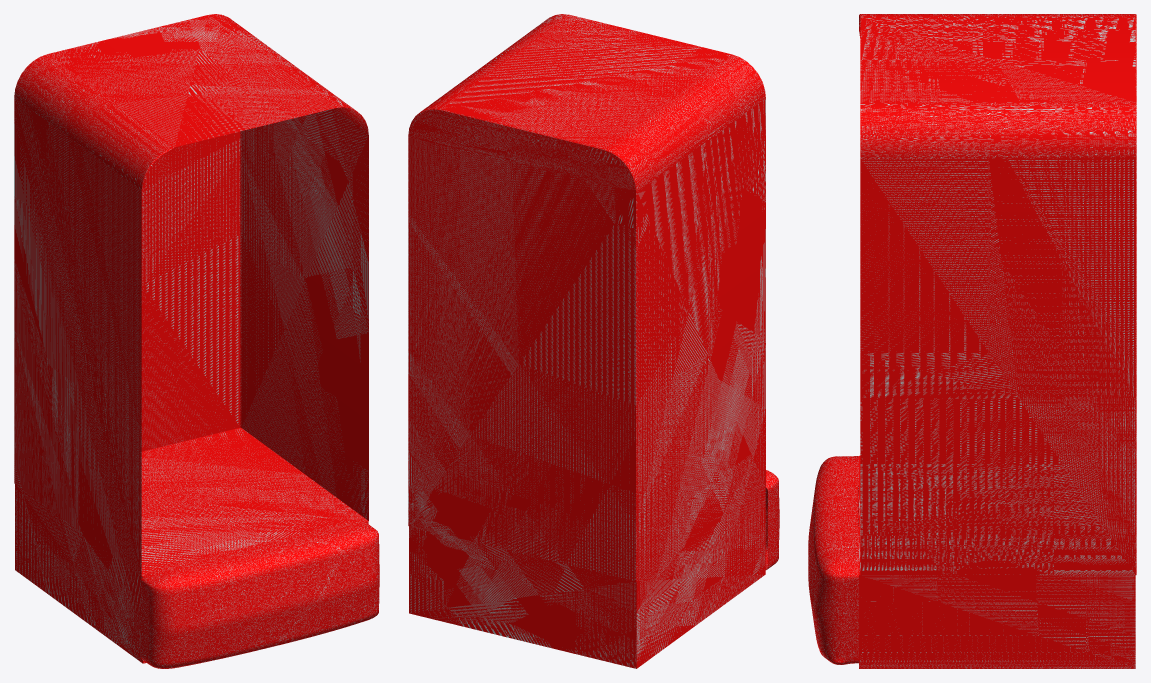
The model's file is frame.dae.
The picture shows the model from 3 angles, left to right: view 1: azimuth 30°, elevation 25°; view 2: azimuth 150°, elevation 25°; view 3: azimuth 270°, elevation 25°; orthographic projection. The views are drawn at different scales.
Visible parts, largest first — view 1: instance_1.175, group_3.038, group_4.079; view 2: instance_1.175, group_4.079, group_3.038; view 3: instance_1.175, group_4.079, group_3.038.
Part boxes in pixels (<box>): instance_1.175: <box>14,14,368,576</box>; group_3.038: <box>140,521,379,668</box>; group_4.079: <box>15,429,368,663</box>; instance_1.175: <box>408,14,765,581</box>; group_4.079: <box>409,488,765,668</box>; group_3.038: <box>765,470,779,569</box>; instance_1.175: <box>859,14,1136,575</box>; group_4.079: <box>859,575,1135,668</box>; group_3.038: <box>808,456,858,664</box>.
Size of the model in its own units: 0.7751 by 0.8922 by 1.65.
